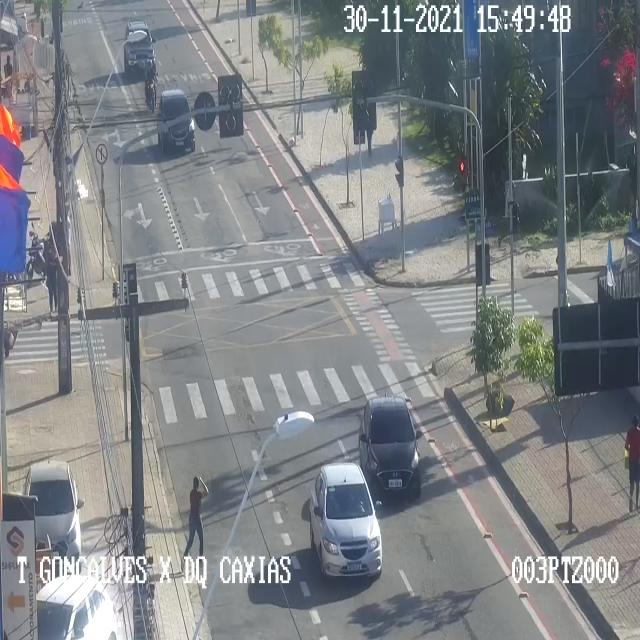Car: (309, 462, 381, 575), (24, 462, 81, 572), (358, 397, 420, 495), (36, 574, 116, 639), (156, 89, 194, 149), (123, 20, 155, 74)
Motorcycle: (25, 231, 57, 287), (144, 59, 158, 111)
